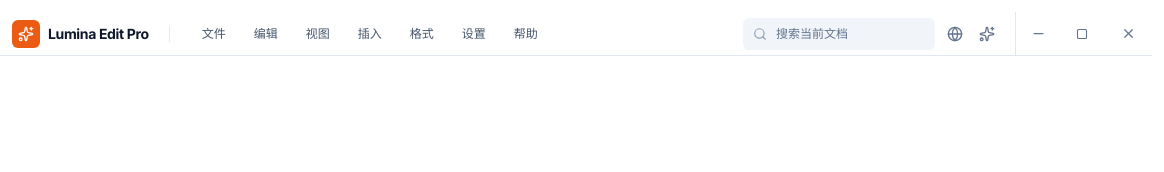
Header document search › shows the active search match as current over total instead of only total count
Focus the search field at (839,34), box left=743, top=18, right=935, bottom=50
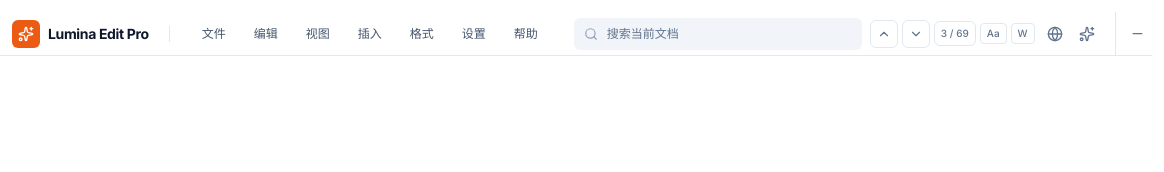
Expected: the text "3 / 69" is shown, left=934, top=21, right=976, bottom=46
